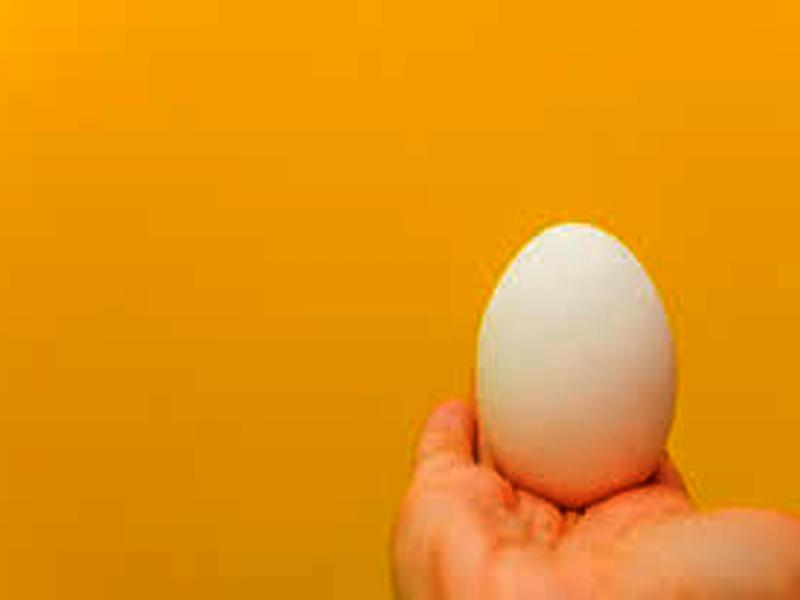Eggs: (476, 220, 668, 505)
